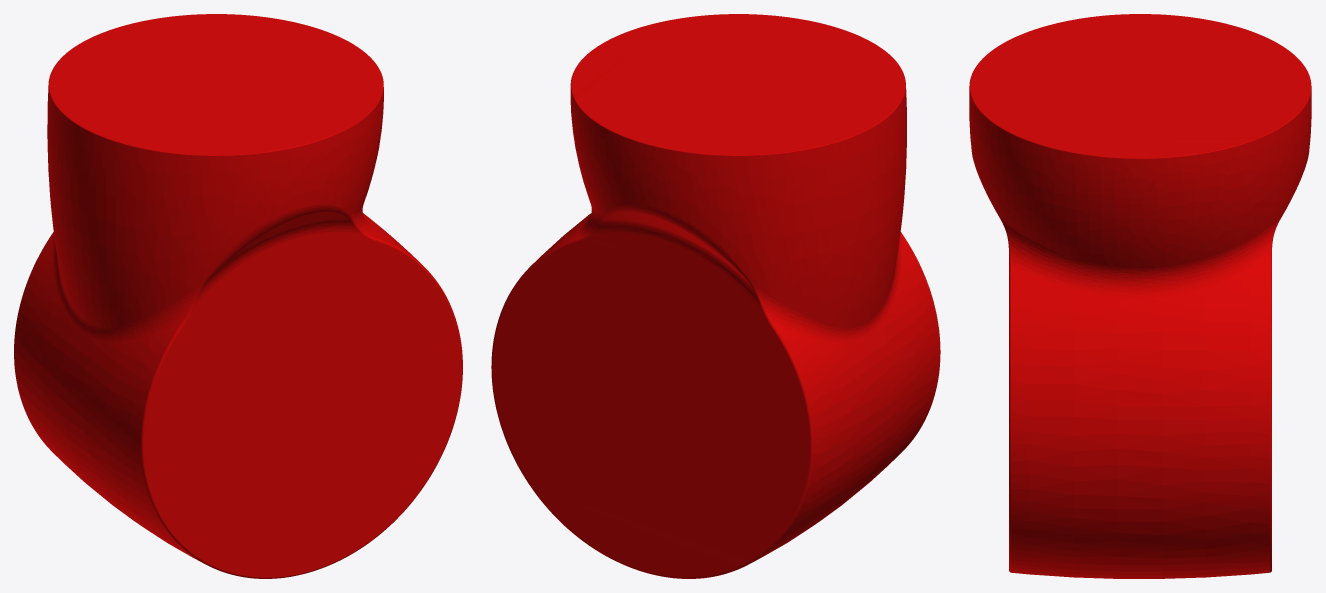
3 renders of one model, left to right at view 1: azimuth 30°, elevation 25°; view 2: azimuth 150°, elevation 25°; view 3: azimuth 270°, elevation 25°, orthographic. The views are drawn at different scales.
Parts seen in each view (by area): view 1: Untitled; view 2: Untitled; view 3: Untitled.
Part boxes in pixels (bbox=[...]): Untitled: bbox=[14, 14, 462, 578]; Untitled: bbox=[491, 14, 940, 578]; Untitled: bbox=[969, 14, 1311, 578].
Bounding box in the file's own units: 0.15 × 0.1303 × 0.1944.
